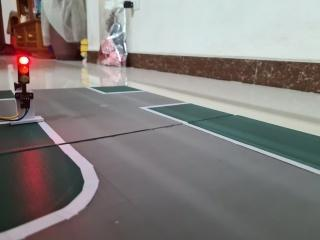red: (11, 48, 36, 94)
